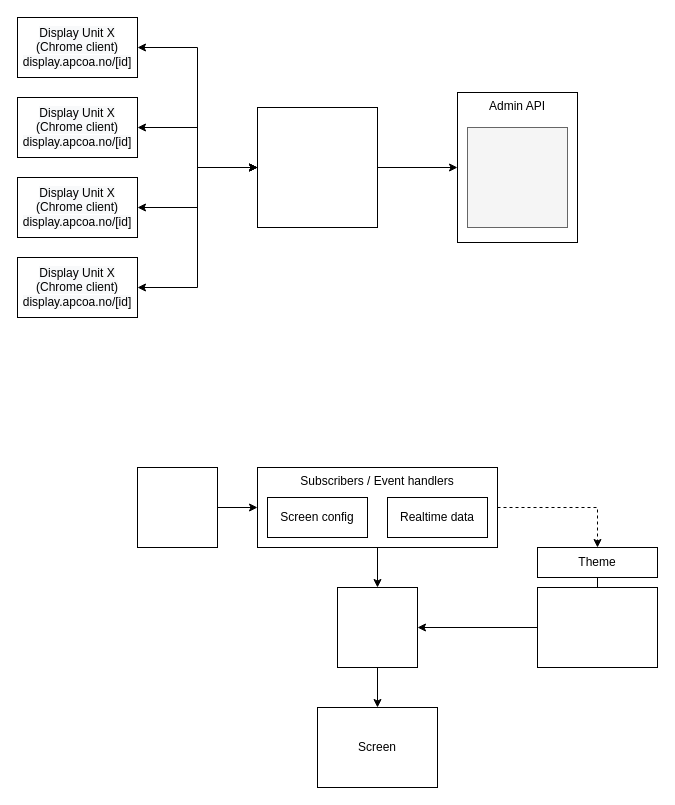
Image size: 675x805. Some labels were removed from this diagram. Each missing label, with the centre of its shape:
Apcoa Display App: point 317,167
Apcoa Display App Integration: point 517,177
Router / Identifier: point 177,507
UI Builder: point 377,627
UI Components: point 597,627
